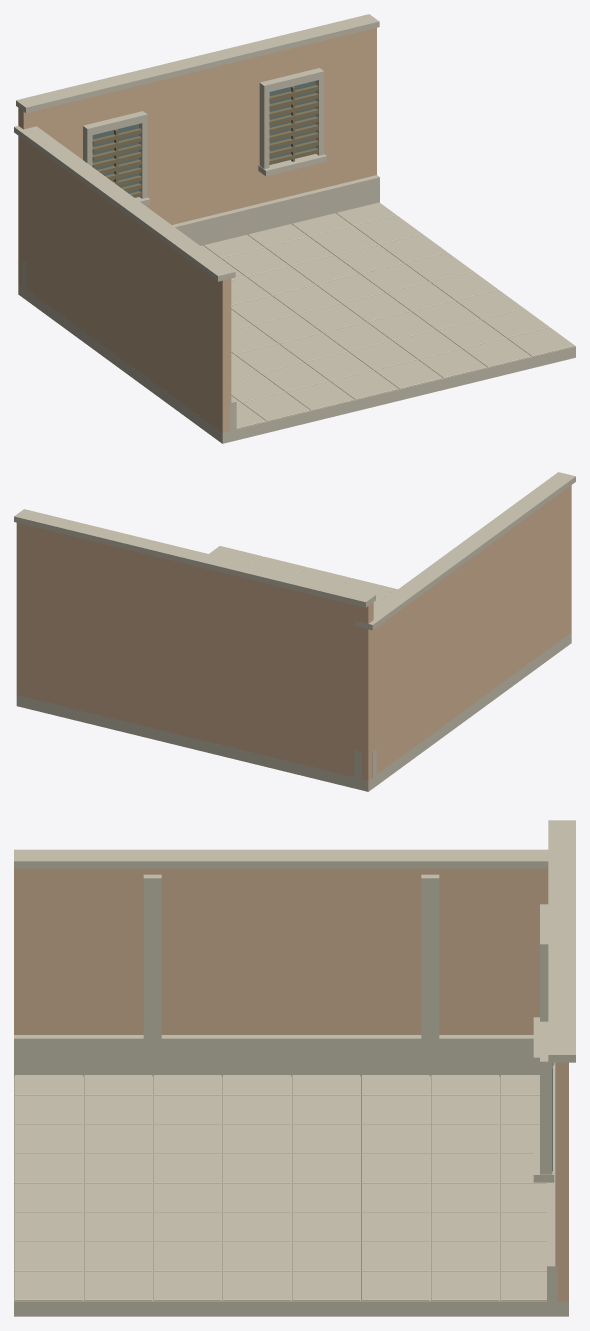
Rendered from district-0-0-0.glb.
The picture shows the model from 3 angles, top to bottom: view 1: azimuth 30°, elevation 25°; view 2: azimuth 150°, elevation 25°; view 3: azimuth 270°, elevation 25°; orthographic projection. The views are drawn at different scales.
Parts seen in each view (by area): view 1: stone, plaster, wood, glass; view 2: plaster, stone; view 3: stone, plaster.
Part boxes in pixels (x1,y1,x2,y2): stone: (14,14,575,443); plaster: (18,27,376,432); wood: (92,85,318,197); glass: (92,81,315,193); plaster: (16,485,571,780); stone: (14,472,575,791); stone: (14,820,575,1316); plaster: (14,868,568,1301).
Bounding box in the file's own units: 8.1 × 4.16 × 8.1.
